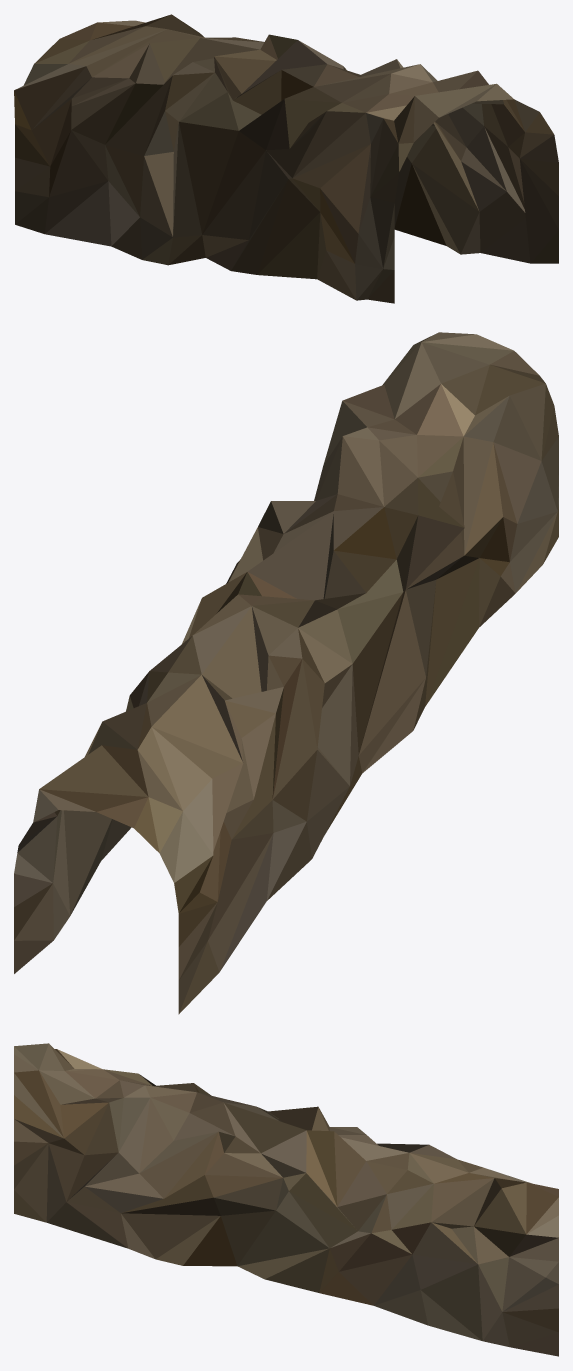
The model's file is Cave-Slope20mA.fbx.
3 renders of one model, top to bottom at view 1: azimuth 30°, elevation 25°; view 2: azimuth 150°, elevation 25°; view 3: azimuth 270°, elevation 25°, orthographic. The views are drawn at different scales.
Parts seen in each view (by area): view 1: Cave-Slope20mA; view 2: Cave-Slope20mA; view 3: Cave-Slope20mA.
Boxes of the visible parts, box(x1,y1,x2,y2) form: Cave-Slope20mA: box(14, 14, 558, 303); Cave-Slope20mA: box(14, 332, 558, 1014); Cave-Slope20mA: box(14, 1043, 558, 1356).
Size of the model in its own units: 609 by 1108 by 2000.
